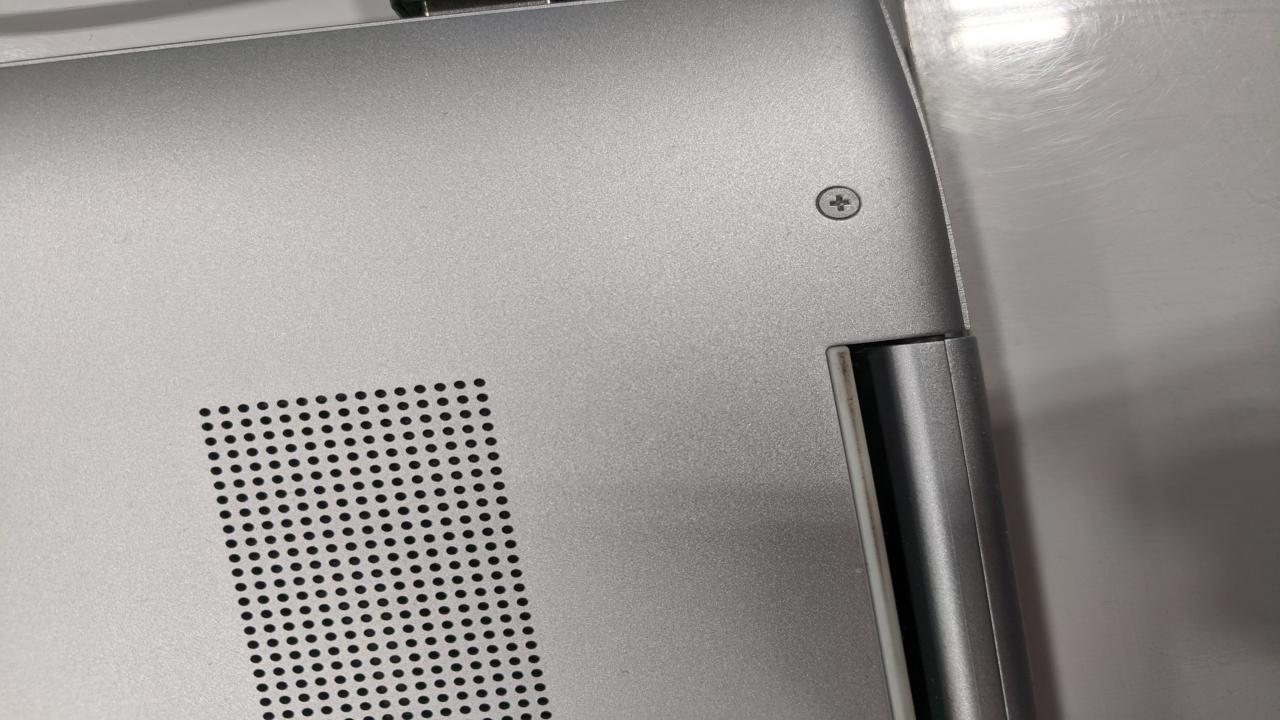CRS: (815, 184, 863, 219)
